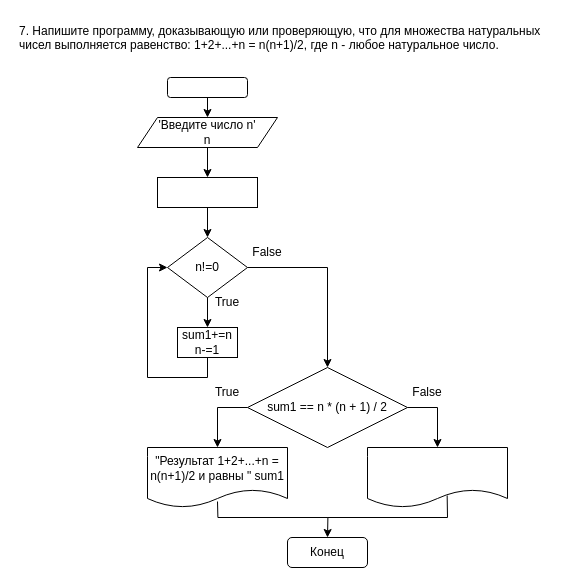
Some shapes in this 584 by 585 pixel diagram are drawn without their labels. Here are the shapes that lost their labels. From the top down, the centre of each, then its label:
(207,87): Начало
(207,192): n1=n sum1=0
(437,477): "Парадокс!!!"
